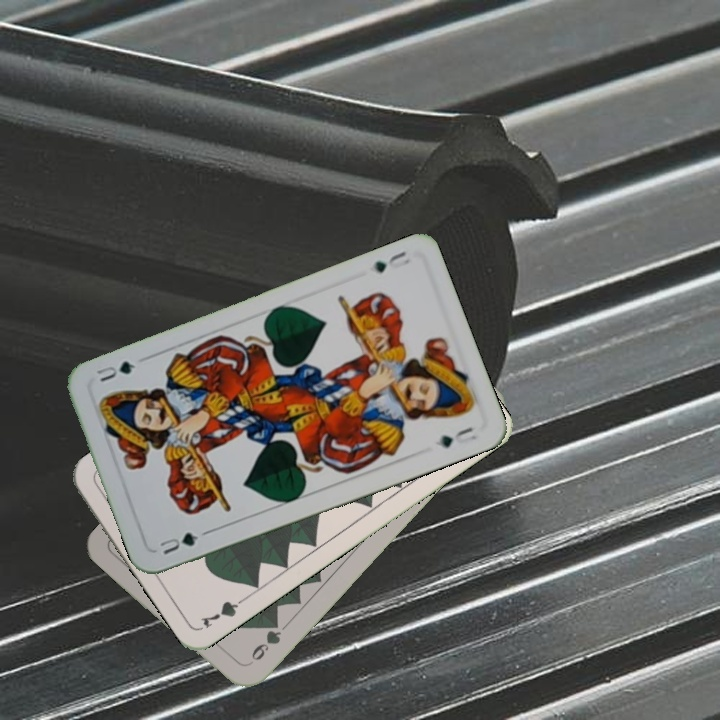G7: (196, 591, 251, 632)
G9: (243, 616, 284, 669)
GU: (155, 528, 201, 558), (370, 247, 413, 276)
